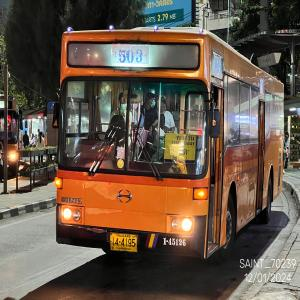BMTA-bus: (54, 29, 284, 261)
Bus Line Number: (110, 41, 152, 66)
Bus Side Number: (159, 234, 189, 250)
Destination Sign: (162, 128, 198, 167)
